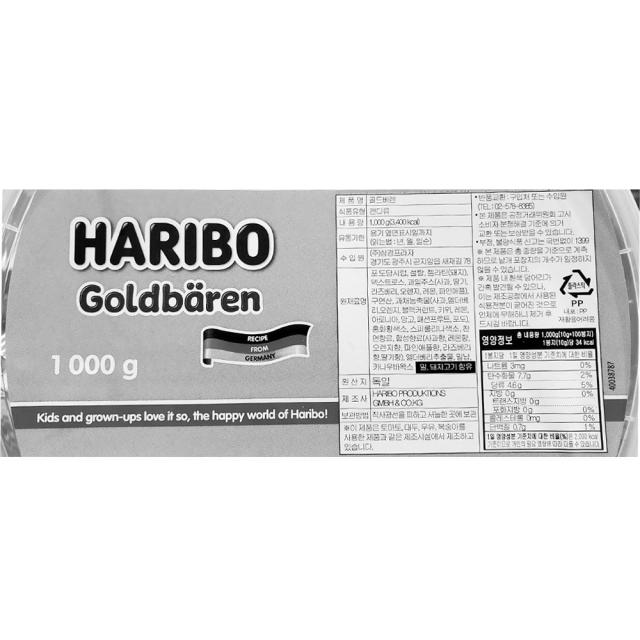Nutrition Label: (476, 323, 608, 456)
